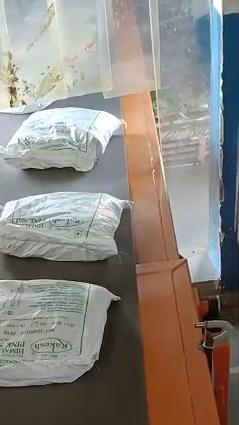box: (0, 279, 119, 387), (0, 193, 130, 261), (0, 107, 123, 172)
